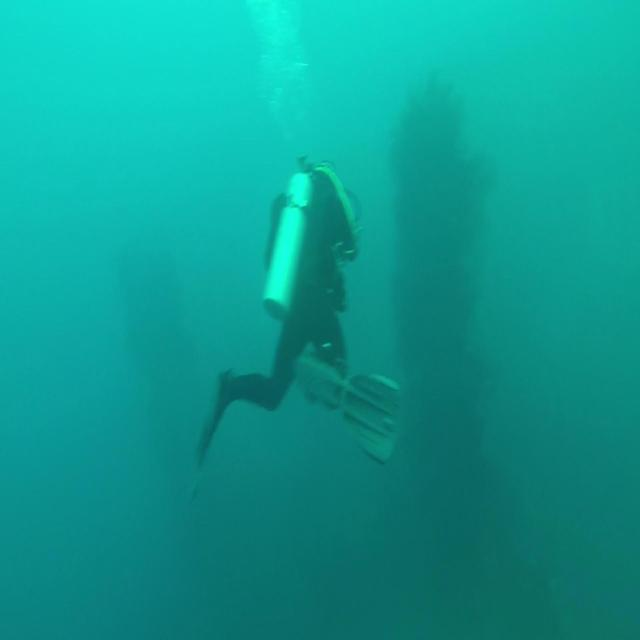human: (190, 152, 401, 497)
